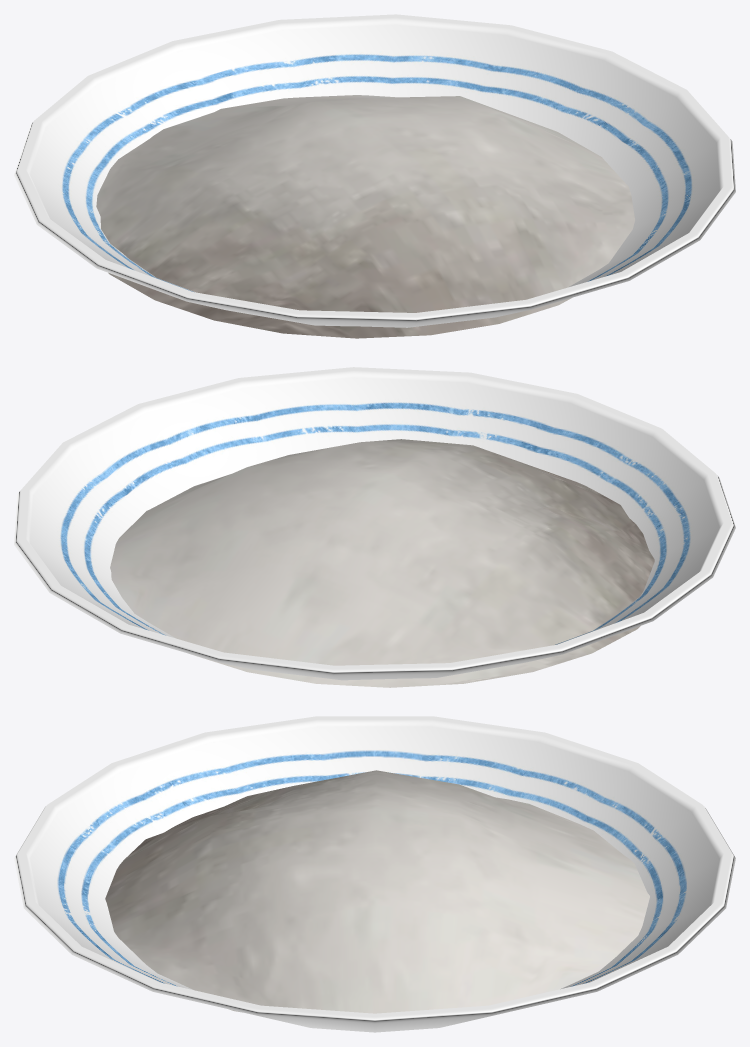
File: salt_plate.fbx
3 renders of one model, top to bottom at view 1: azimuth 30°, elevation 25°; view 2: azimuth 150°, elevation 25°; view 3: azimuth 270°, elevation 25°, orthographic.
Parts seen in each view (by area): view 1: salt1, Prato; view 2: salt1, Prato; view 3: salt1, Prato.
Boxes of the visible parts, <box> form: salt1: <box>96,95,634,338</box>; Prato: <box>14,14,735,327</box>; salt1: <box>110,439,654,687</box>; Prato: <box>14,367,735,680</box>; salt1: <box>105,770,649,1013</box>; Prato: <box>14,716,735,1032</box>.
Bounding box in the file's own units: 38.36 × 7.71 × 38.49.
Materials: 2 (2 with a texture image).
